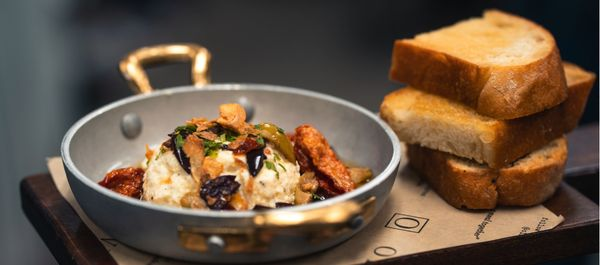soup: (378, 9, 595, 210)
sushi: (59, 81, 403, 260)
